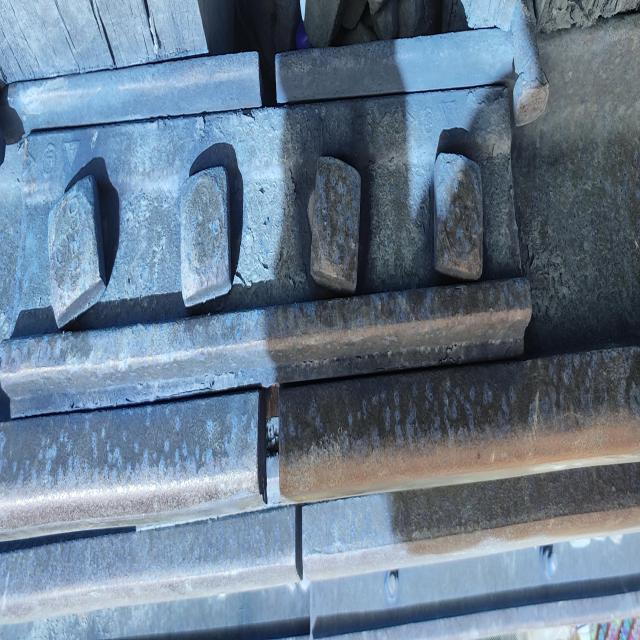Good Joint: (3, 80, 531, 399)
